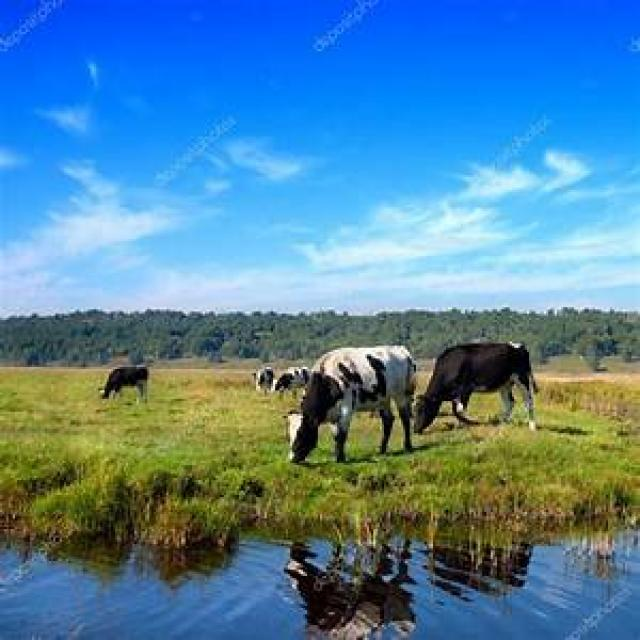cow: (292, 348, 416, 463), (414, 343, 538, 431), (100, 365, 149, 401)
